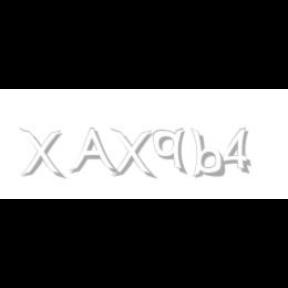4: (220, 128, 252, 174)
A: (69, 128, 117, 176)
X: (19, 128, 63, 180), (110, 128, 154, 180)
b: (190, 128, 228, 178)
q: (153, 128, 189, 176)
